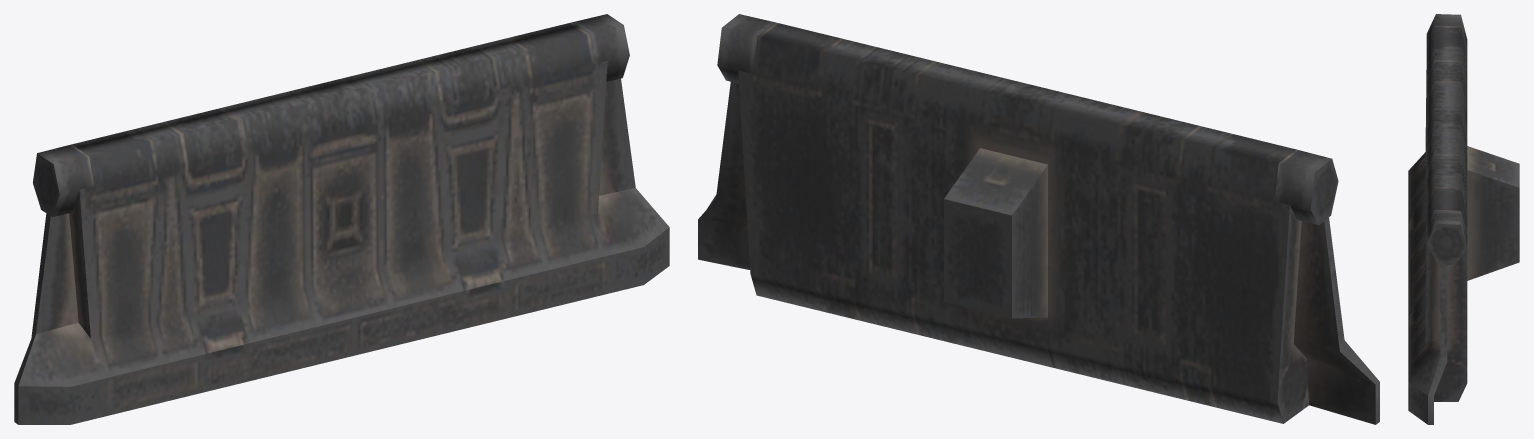
The picture shows the model from 3 angles, left to right: view 1: azimuth 30°, elevation 25°; view 2: azimuth 150°, elevation 25°; view 3: azimuth 270°, elevation 25°; orthographic projection. The views are drawn at different scales.
Parts seen in each view (by area): view 1: set_0_group_0; view 2: set_0_group_0; view 3: set_0_group_0.
Boxes of the visible parts, bbox=[...] form: set_0_group_0: bbox=[14, 14, 669, 424]; set_0_group_0: bbox=[698, 14, 1379, 424]; set_0_group_0: bbox=[1408, 14, 1519, 424].
Size of the model in its own units: 0.6094 by 0.2251 by 0.1198.
Materials: 1 (1 with a texture image).
